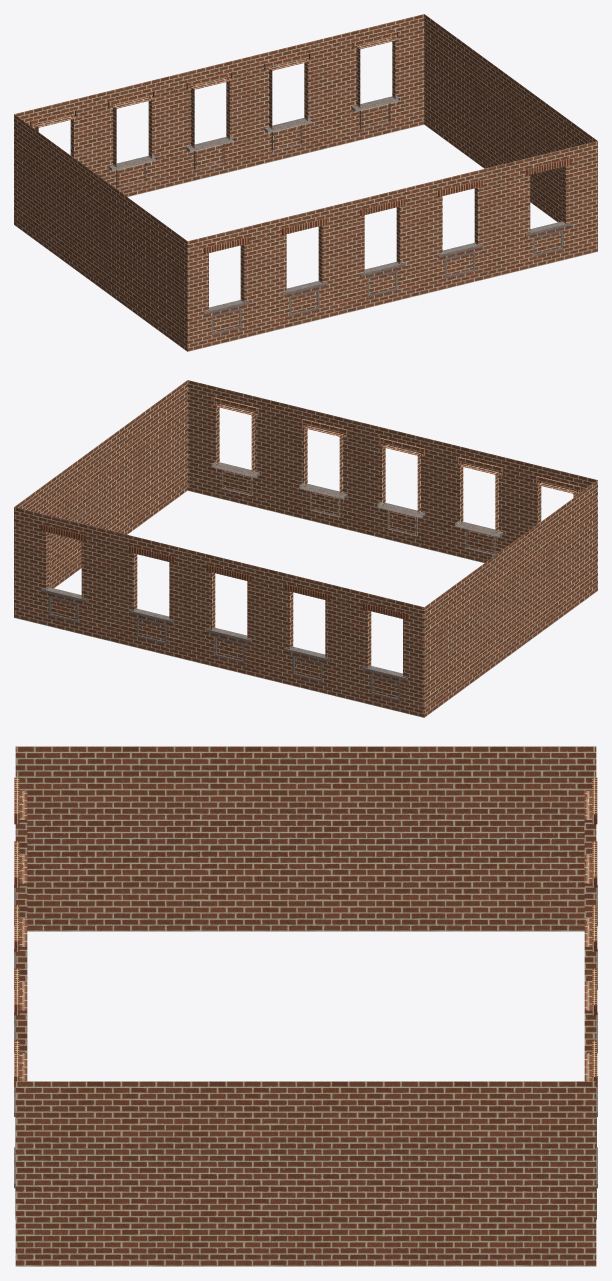
The model's file is BUILDING_floor_01.FBX.
3 renders of one model, top to bottom at view 1: azimuth 30°, elevation 25°; view 2: azimuth 150°, elevation 25°; view 3: azimuth 270°, elevation 25°, orthographic. The views are drawn at different scales.
Visible parts, largest first — view 1: BUILDING_floor_01; view 2: BUILDING_floor_01; view 3: BUILDING_floor_01.
Part boxes in pixels (x1,y1,x2,y2): BUILDING_floor_01: [14, 14, 597, 351]; BUILDING_floor_01: [14, 380, 597, 717]; BUILDING_floor_01: [14, 746, 597, 1266].
Size of the model in its own units: 1916 by 494 by 1412.
3 materials, 3 textured.
